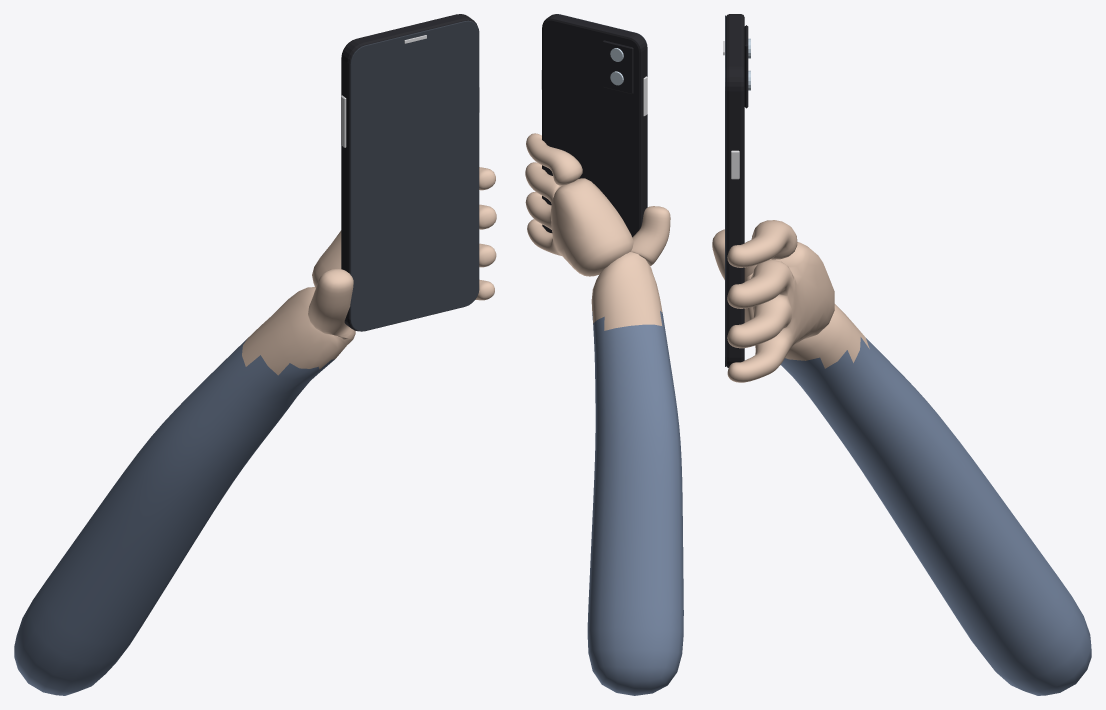
The model's file is fp_phone.fbx.
3 renders of one model, left to right at view 1: azimuth 30°, elevation 25°; view 2: azimuth 150°, elevation 25°; view 3: azimuth 270°, elevation 25°, orthographic. The views are drawn at different scales.
Parts seen in each view (by area): view 1: HoldHand, PhoneScreen, PhoneBody; view 2: HoldHand, PhoneBody, CamBump; view 3: HoldHand, PhoneBody.
Part boxes in pixels (box(x1,y1,x2,y2)): HoldHand: box(14, 167, 496, 695); PhoneScreen: box(354, 27, 476, 326); PhoneBody: box(341, 14, 479, 331); HoldHand: box(525, 133, 683, 695); PhoneBody: box(542, 14, 647, 236); CamBump: box(602, 40, 633, 94); HoldHand: box(712, 220, 1091, 695); PhoneBody: box(725, 14, 744, 367).
Bounding box in the file's own units: 0.1822 × 0.3742 × 0.1719.
